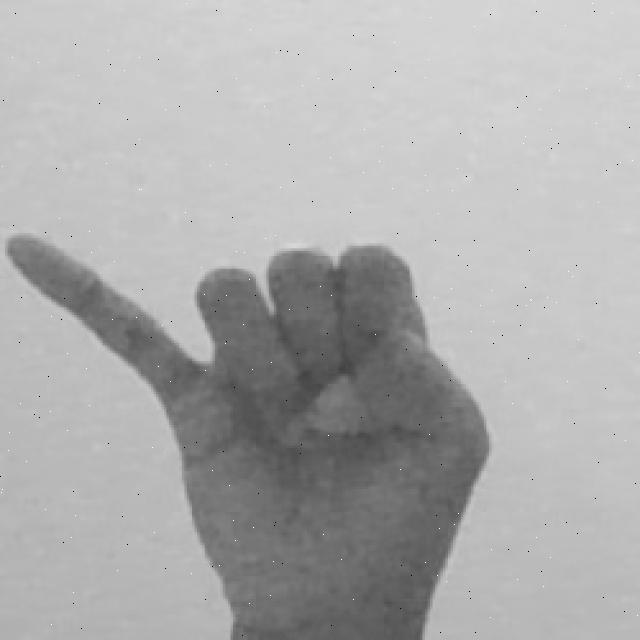I: (2, 228, 493, 640)
